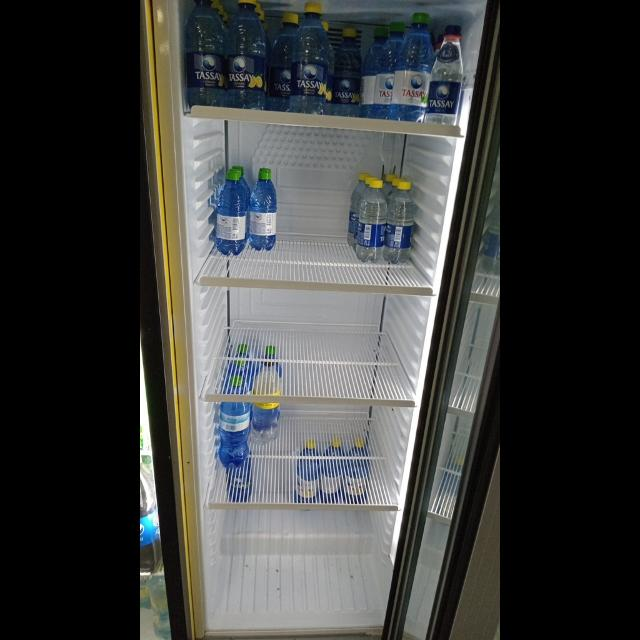Cooling-Display: (143, 1, 499, 640)
